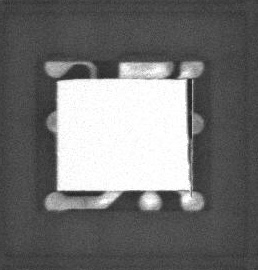DIE_BROKEN: (183, 77, 195, 171)
